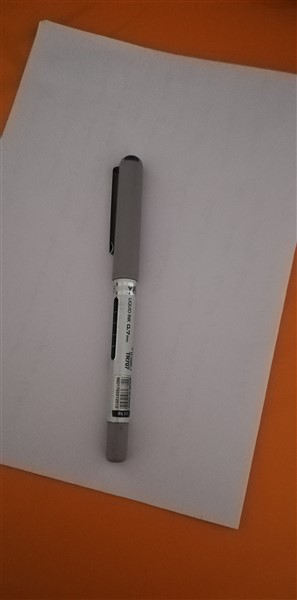pilot kalem: (102, 149, 149, 467)
